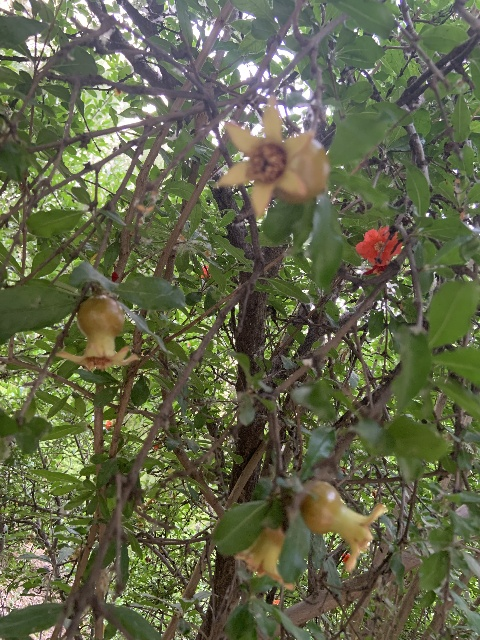early-fruit: (216, 101, 330, 219), (300, 481, 387, 573), (55, 296, 139, 373)
flower: (355, 224, 402, 274)
